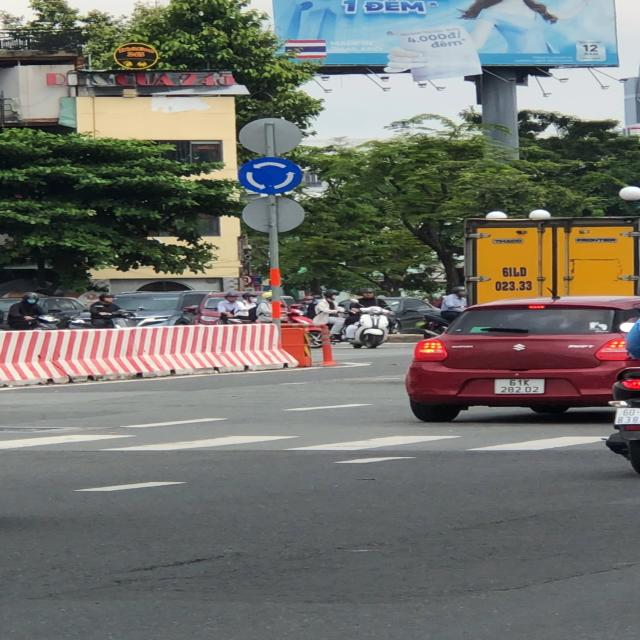Bien bao noi giao nhau chay theo vong xuyen: (236, 156, 311, 196)
